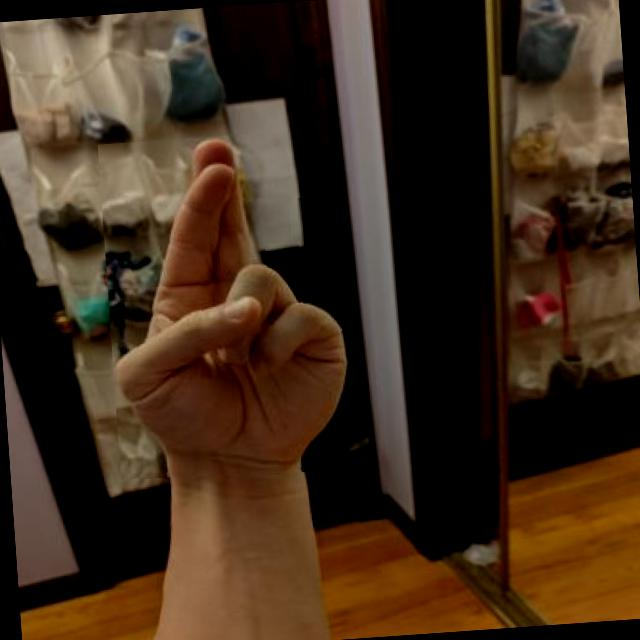R: (97, 127, 367, 486)
